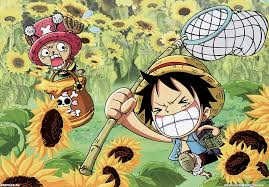chopper: (23, 14, 84, 70)
luffy: (132, 55, 226, 141)
